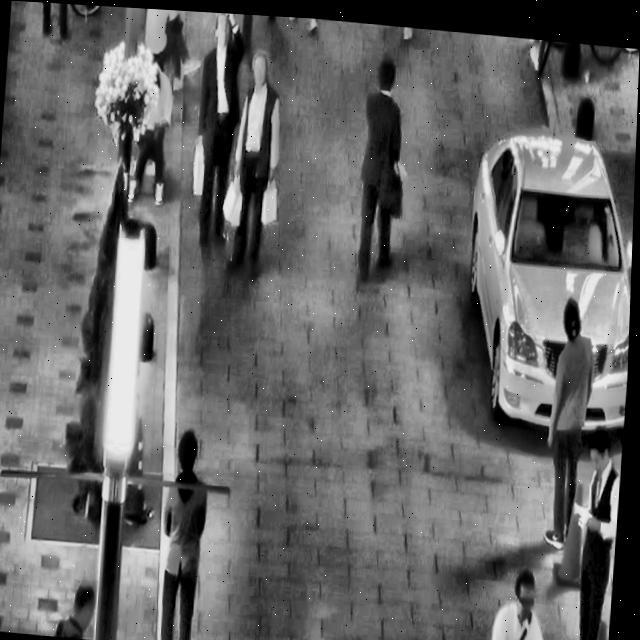light_vehicle: (453, 100, 638, 434)
